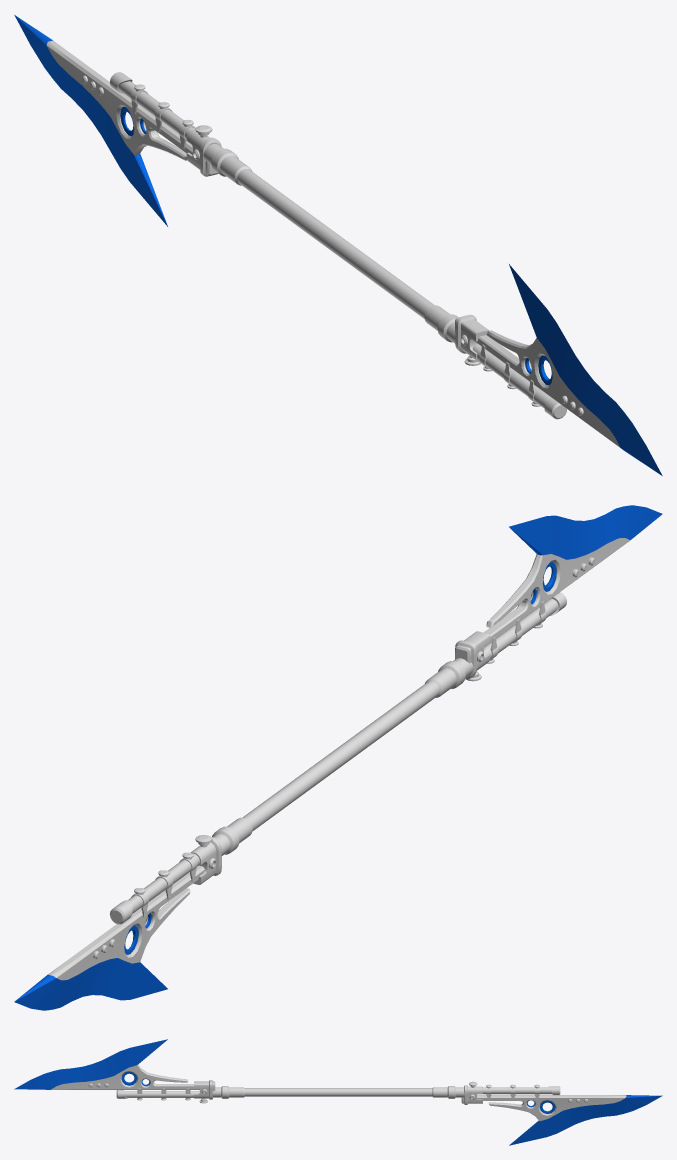
File: SM_DoubleSword.fbx
The picture shows the model from 3 angles, top to bottom: view 1: azimuth 30°, elevation 25°; view 2: azimuth 150°, elevation 25°; view 3: azimuth 270°, elevation 25°; orthographic projection. The views are drawn at different scales.
Parts seen in each view (by area): view 1: Plane.017; view 2: Plane.017; view 3: Plane.017.
Boxes of the visible parts, x1=… form: Plane.017: x1=14, y1=15, x2=662, y2=475; Plane.017: x1=14, y1=505, x2=662, y2=1010; Plane.017: x1=14, y1=1039, x2=662, y2=1145.
Bounding box in the file's own units: 3.63 × 32.93 × 181.
